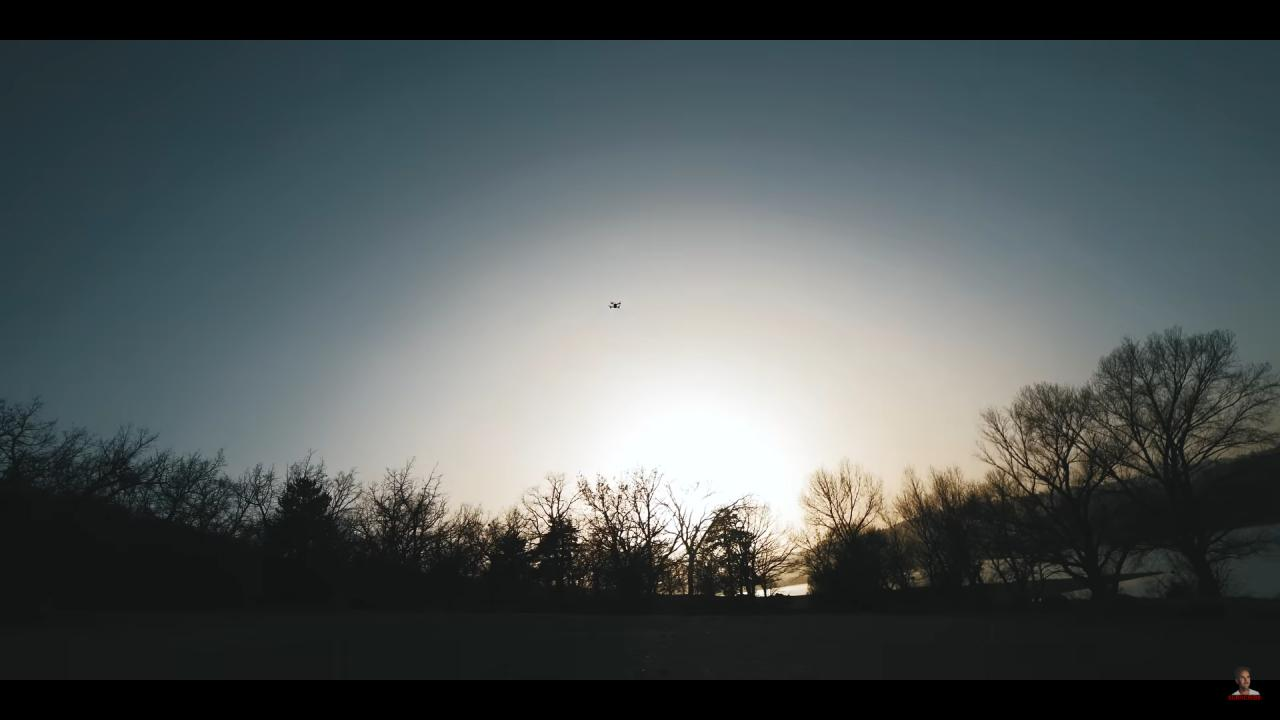Drone: (603, 297, 627, 315)
